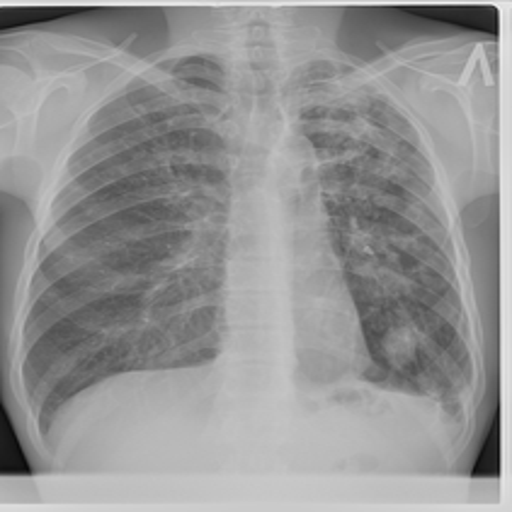TB: (327, 101, 421, 263), (377, 318, 425, 367)
